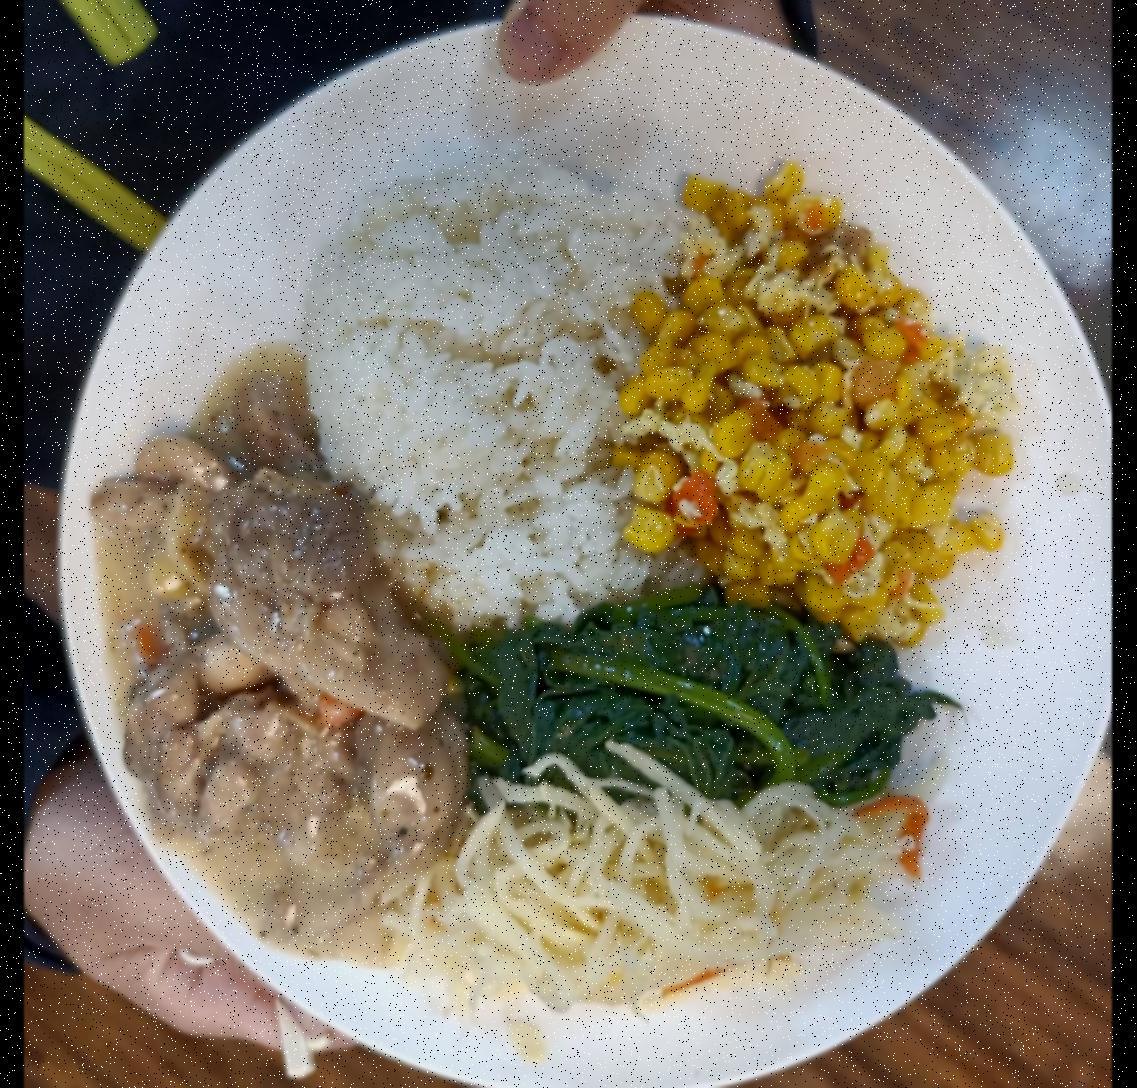plate: (55, 1, 1113, 1088)
side dish: (611, 162, 1026, 635), (402, 780, 924, 1030), (462, 596, 927, 790)
white rice: (285, 160, 686, 640)
white sauce chicken: (91, 344, 466, 971)
